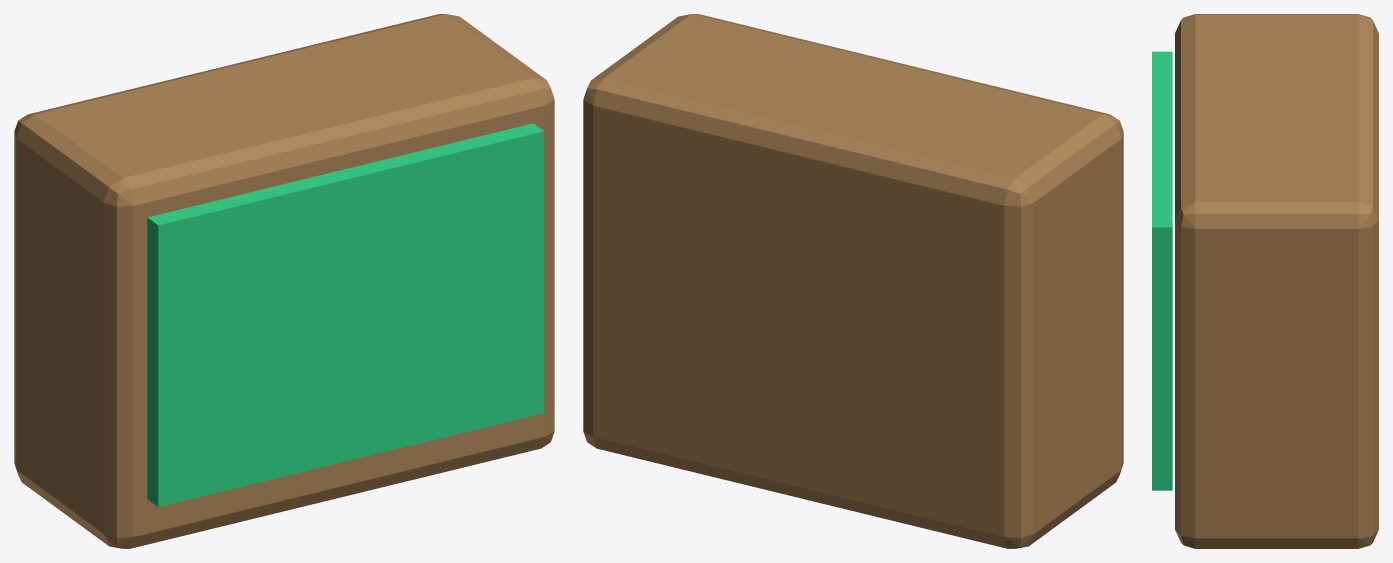
Rendered from CC_S16_P2_Product_OrbitPad_Box_LOD0.fbx.
3 renders of one model, left to right at view 1: azimuth 30°, elevation 25°; view 2: azimuth 150°, elevation 25°; view 3: azimuth 270°, elevation 25°, orthographic. The views are drawn at different scales.
Parts seen in each view (by area): view 1: CC_S16_P2_Product_OrbitPad_Box_LOD0_Box, CC_S16_P2_Product_OrbitPad_Box_LOD0_FrontPanel; view 2: CC_S16_P2_Product_OrbitPad_Box_LOD0_Box; view 3: CC_S16_P2_Product_OrbitPad_Box_LOD0_Box, CC_S16_P2_Product_OrbitPad_Box_LOD0_FrontPanel.
Boxes of the visible parts, x1=… form: CC_S16_P2_Product_OrbitPad_Box_LOD0_Box: x1=14, y1=14, x2=554, y2=548; CC_S16_P2_Product_OrbitPad_Box_LOD0_FrontPanel: x1=147, y1=123, x2=544, y2=507; CC_S16_P2_Product_OrbitPad_Box_LOD0_Box: x1=583, y1=14, x2=1123, y2=548; CC_S16_P2_Product_OrbitPad_Box_LOD0_Box: x1=1175, y1=14, x2=1378, y2=548; CC_S16_P2_Product_OrbitPad_Box_LOD0_FrontPanel: x1=1152, y1=51, x2=1172, y2=490.
Size of what is drawn, in the model's own units: 0.19 by 0.15 by 0.089.
